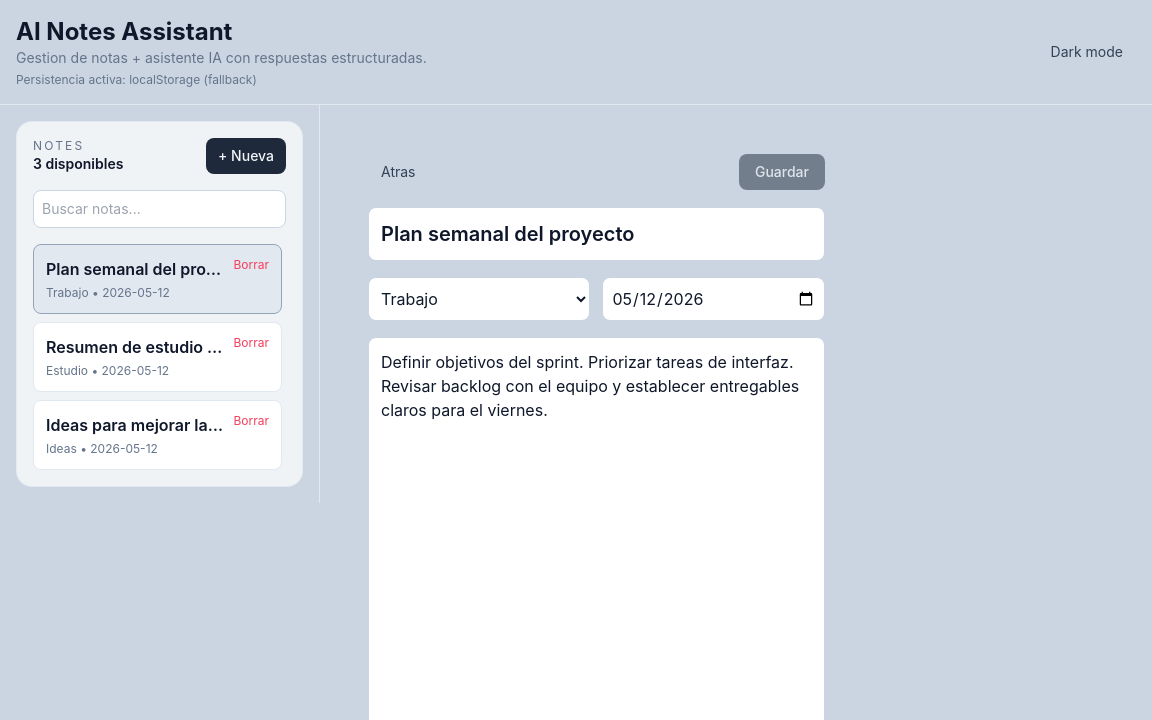
it: App integration › eliminar nota funciona
The image size is (1152, 720).
Click the button "Borrar" next to "Plan semanal del proyecto" at (251, 265), box [234, 257, 269, 273]
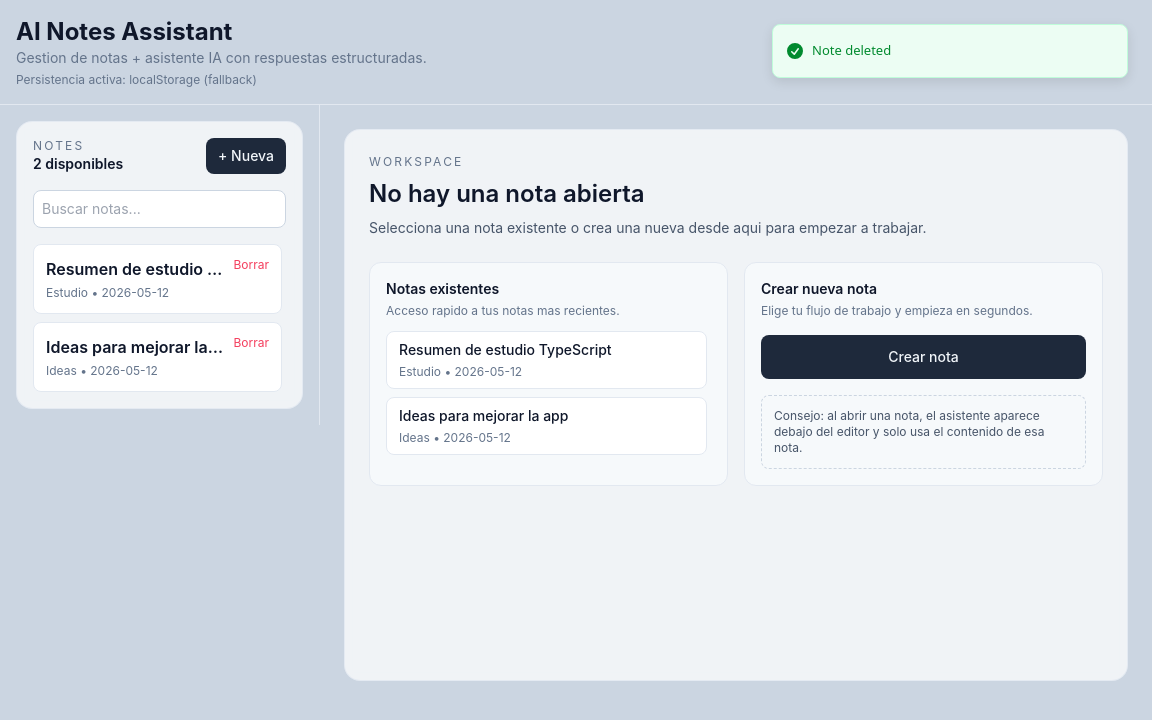
Expected: the number of buttons "Borrar" is 2, [234, 257, 269, 273]; [234, 335, 269, 351]
